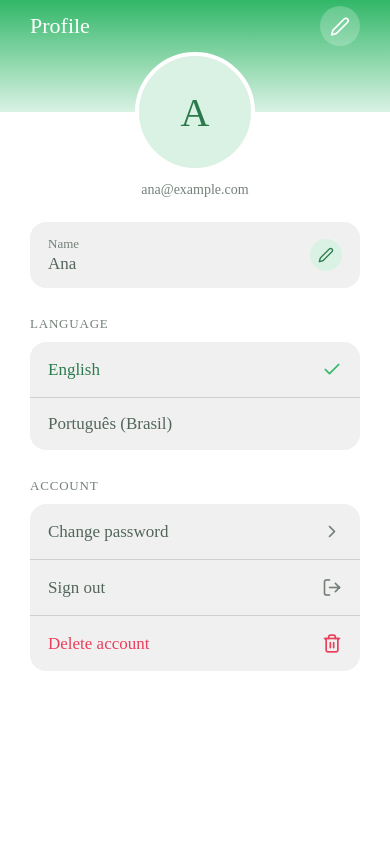
Scenario: Profile signed in › name › keeps editing and shows the error when the save fails
Expected: the text "ana@example.com" is shown, [141,182,249,197]
Click the button named "Edit name" at x=326, y=255, box [310,239,342,271]
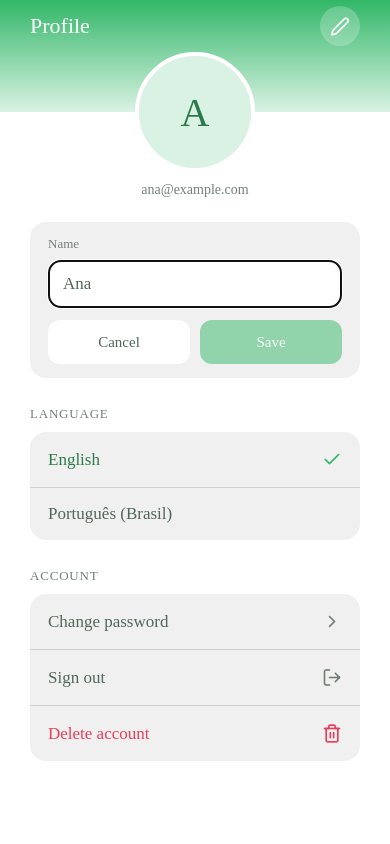
Replace the text in the field named "Name" with "Bia" at x=195, y=284, box [48,260,342,308]
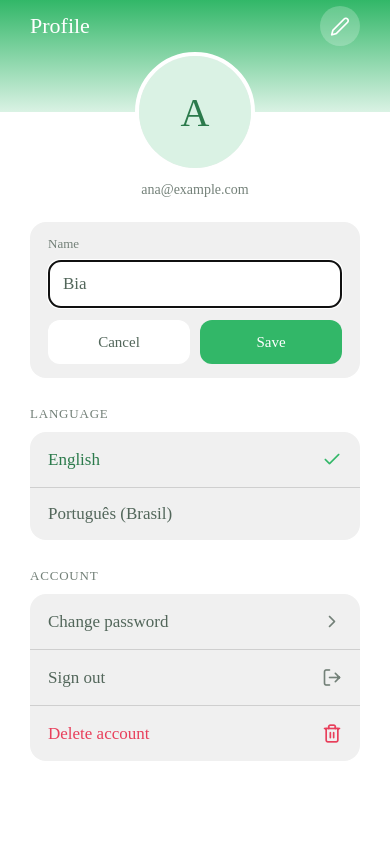
Click the button "Save" at x=271, y=342, box [200,320,342,364]
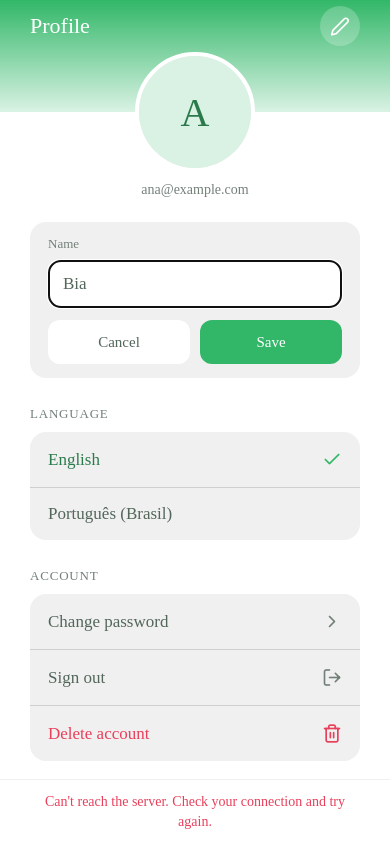
Now the text "Can't reach the server. Check your connection and try again." is shown, box [30,792,360,832]
